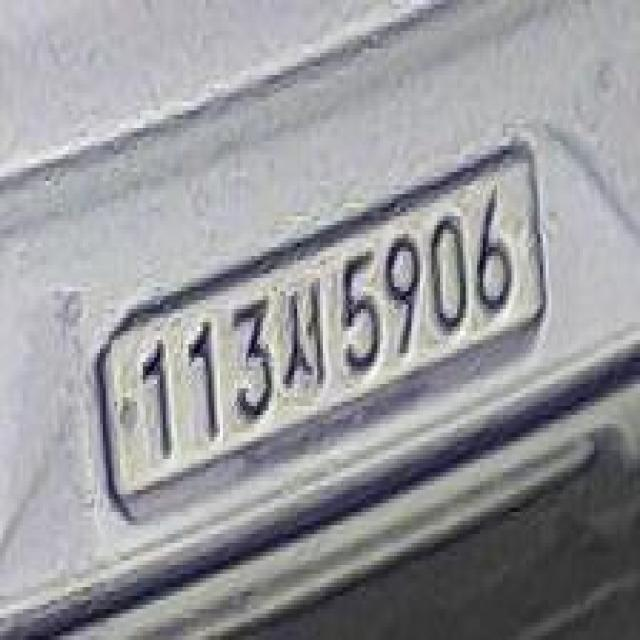illegal_plate: (94, 151, 548, 519)
